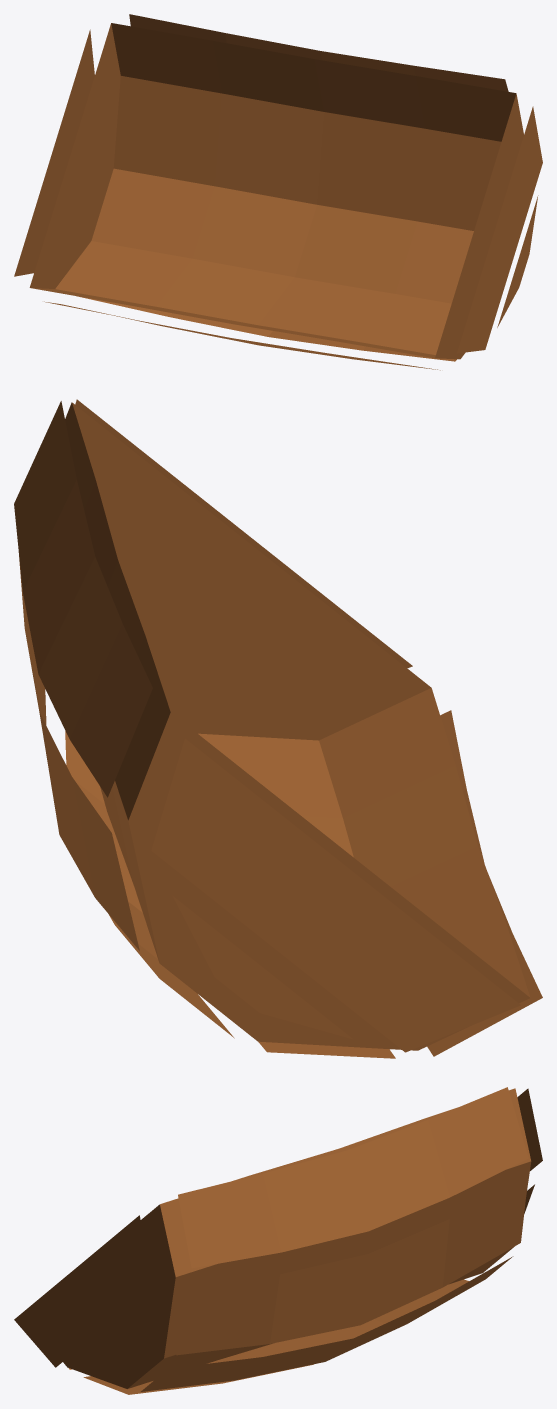
The model's file is n2_chest_top_light_brown_0_lev2.002.glb.
3 renders of one model, top to bottom at view 1: azimuth 30°, elevation 25°; view 2: azimuth 150°, elevation 25°; view 3: azimuth 270°, elevation 25°, orthographic. The views are drawn at different scales.
Visible parts, largest first — view 1: n2_chest_top_light_brown_0_lev2.002; view 2: n2_chest_top_light_brown_0_lev2.002; view 3: n2_chest_top_light_brown_0_lev2.002.
Boxes of the visible parts, box(x1,y1,x2,y2) form: n2_chest_top_light_brown_0_lev2.002: box(14, 14, 542, 370); n2_chest_top_light_brown_0_lev2.002: box(14, 399, 542, 1058); n2_chest_top_light_brown_0_lev2.002: box(14, 1087, 542, 1394).
Size of the model in its own units: 1.69 by 0.9515 by 1.86.
